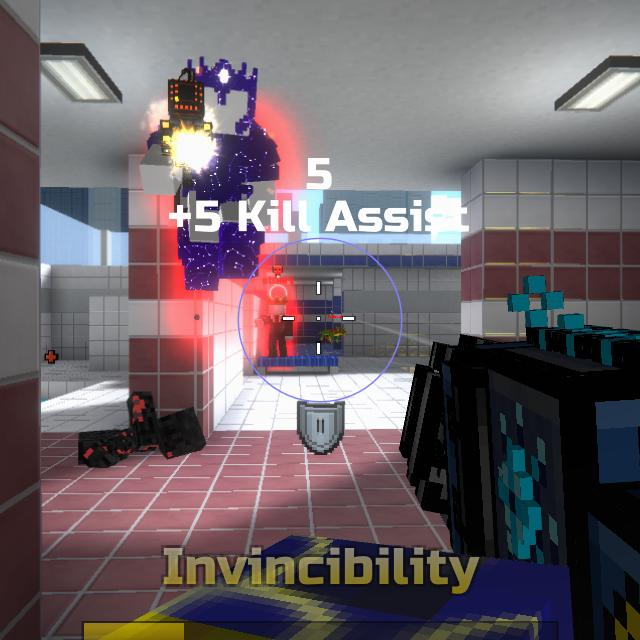Enemy: (139, 58, 282, 291), (254, 295, 293, 356)
